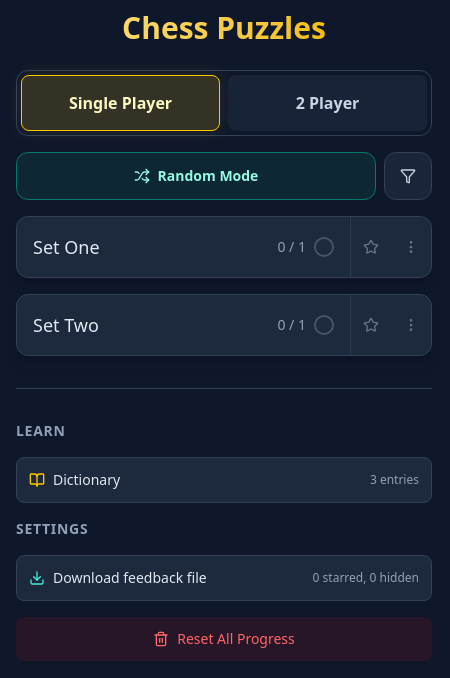
Test case: App unit tests by area › Homepage › marks a category as garbage from the category overflow menu
Click the button with test id "category-options-button": coordinates (411, 247) left=391, top=217, right=431, bottom=277
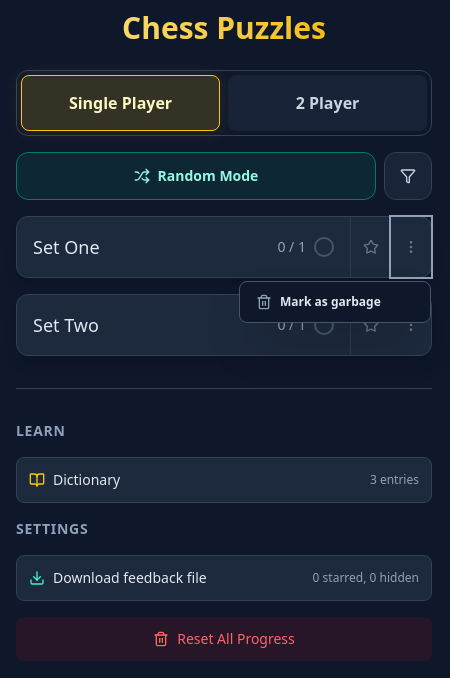
Click the menu item with test id "mark-category-garbage": coordinates (335, 302) left=244, top=286, right=426, bottom=318
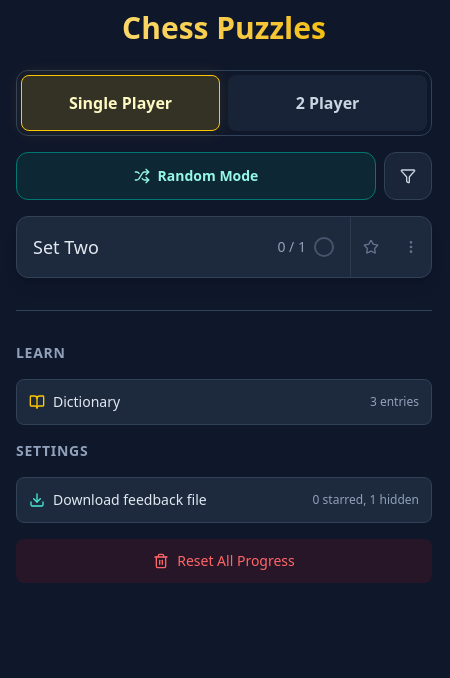
Expected: the button "set two 0 / 1" is shown, left=17, top=217, right=350, bottom=277
Result: the text "0 starred, 1 hidden" is shown at left=313, top=492, right=419, bottom=508
Result: the button "set one" is gone
